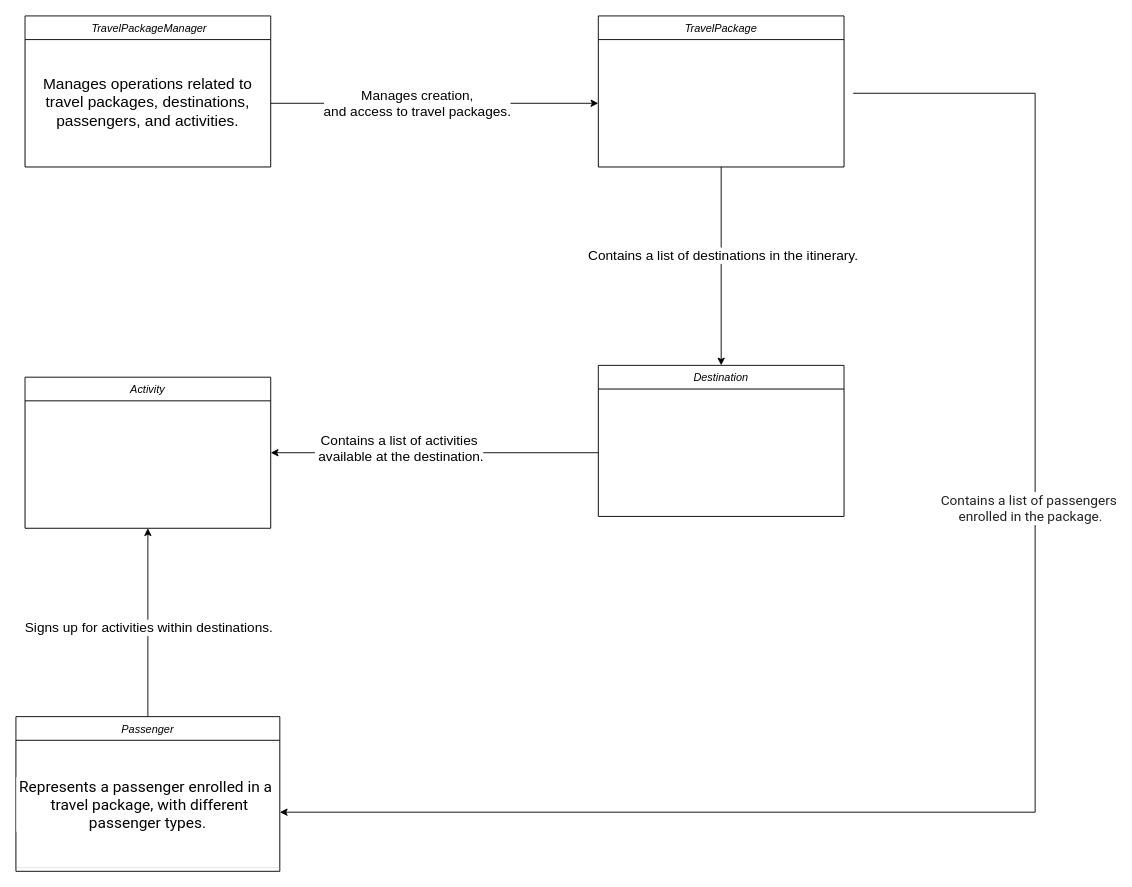
This 1132x887 diagram has some shape labels left out. Each missing label, with the centre of its shape:
"Represents a destination within a travel package and it's activity details." goes at (721,452).
"Represents a single travel package with its attributes and methods." goes at (721,103).
"Represents an activity available at a destination." goes at (147,464).
